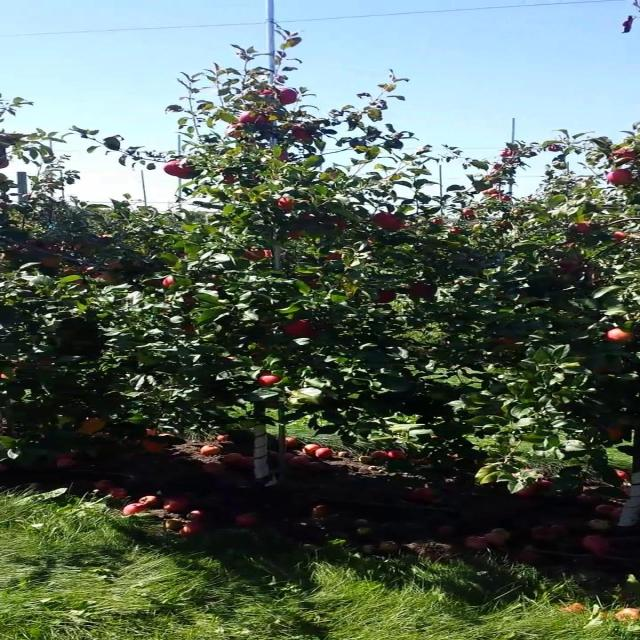apple: (284, 320, 313, 336), (255, 372, 283, 388), (77, 420, 108, 434), (376, 216, 404, 231), (141, 440, 169, 453), (611, 328, 633, 344), (56, 452, 78, 468), (291, 124, 313, 140), (241, 112, 268, 124), (611, 152, 638, 163), (163, 164, 190, 175), (412, 284, 436, 296), (227, 124, 245, 140), (383, 220, 407, 232), (604, 428, 626, 441), (276, 92, 299, 104), (611, 172, 633, 184), (42, 256, 64, 268), (376, 292, 398, 304), (291, 128, 313, 140), (561, 260, 583, 272), (497, 340, 521, 351), (99, 272, 119, 285), (248, 248, 267, 261), (376, 212, 396, 224), (276, 200, 297, 210), (163, 276, 178, 288), (611, 232, 629, 242), (106, 260, 126, 269), (575, 224, 596, 232), (92, 272, 112, 280), (42, 244, 62, 252), (497, 340, 519, 347), (184, 324, 197, 335), (333, 220, 348, 229), (305, 332, 320, 340), (326, 252, 341, 260), (262, 116, 279, 123), (227, 176, 240, 184), (184, 296, 197, 304), (291, 232, 304, 239), (42, 360, 55, 367), (262, 252, 274, 259), (170, 168, 180, 175), (177, 252, 188, 258), (262, 92, 272, 96), (305, 216, 315, 220), (284, 156, 292, 160)
